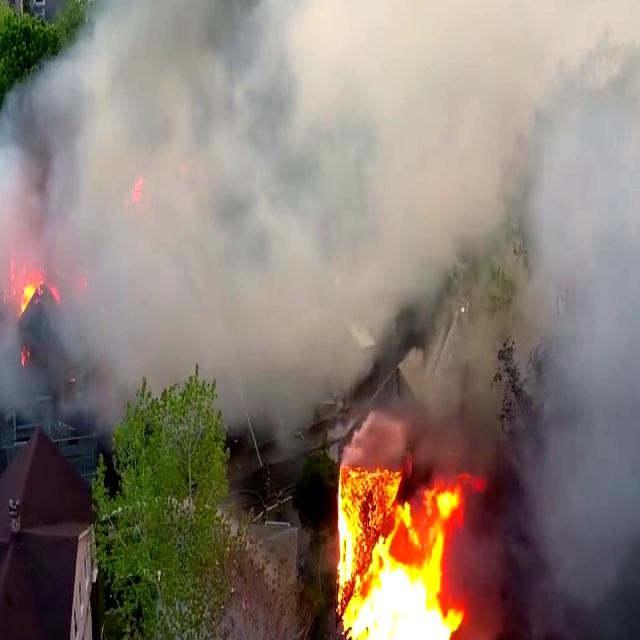fire: (316, 448, 425, 640)
smoke: (73, 0, 455, 230)
